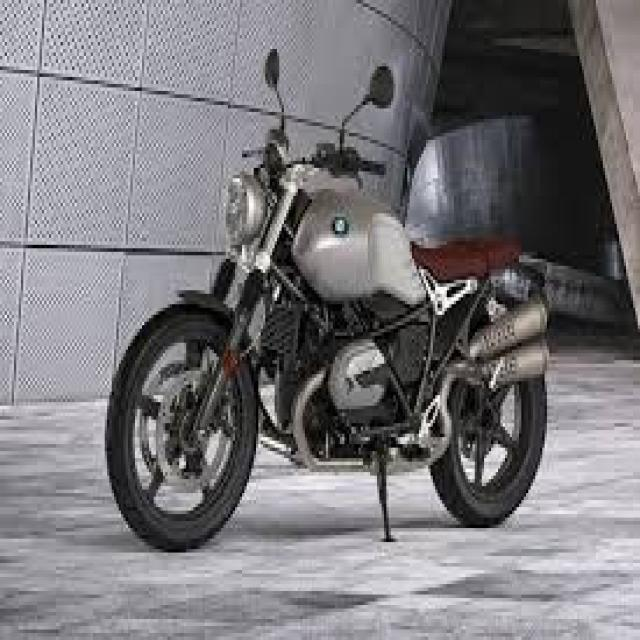Bike: (107, 49, 554, 567)
